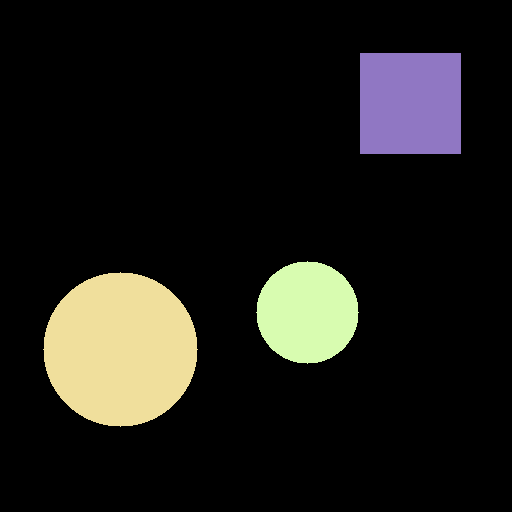circle: (43, 272, 197, 426), (256, 261, 358, 363)
square: (360, 53, 460, 153)
